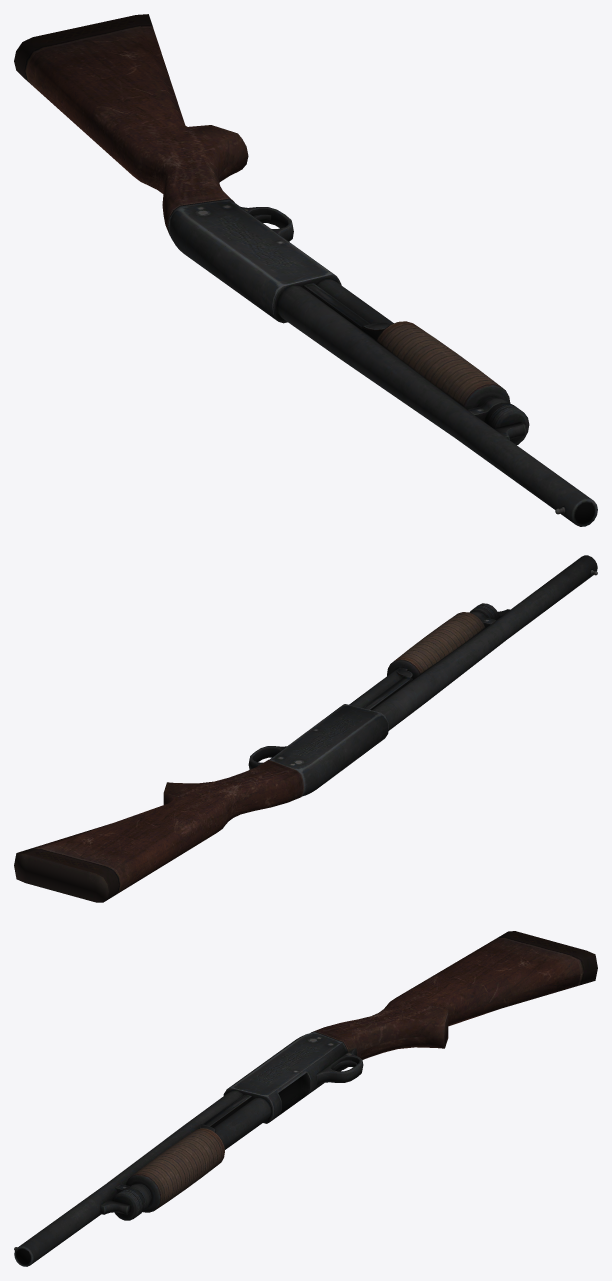
Rendered from Weapons_PumpShotgun01_OnGround_LOD0.glb.
3 views of the same model, one above another, from view 1: azimuth 30°, elevation 25°; view 2: azimuth 150°, elevation 25°; view 3: azimuth 330°, elevation 25° (orthographic). The views are drawn at different scales.
Parts seen in each view (by area): view 1: Hoodie; view 2: Hoodie; view 3: Hoodie.
Boxes of the visible parts, x1,y1,x2,y2 form: Hoodie: (14,14,597,526); Hoodie: (14,555,597,902); Hoodie: (14,931,597,1266).
Size of the model in its own units: 0.1962 by 0.0509 by 1.05.
1 material, 1 textured.
